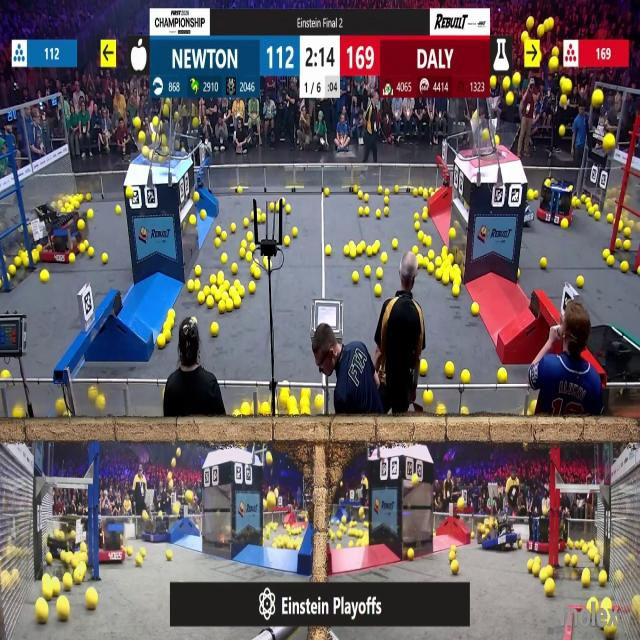ball_airborne: (593, 90, 604, 108), (561, 77, 571, 93), (604, 134, 614, 150), (268, 492, 277, 507), (185, 490, 193, 504), (536, 54, 544, 68), (514, 72, 522, 85), (502, 76, 510, 89), (526, 16, 534, 29), (551, 58, 559, 71), (544, 19, 552, 32), (164, 104, 171, 118), (505, 94, 513, 106), (135, 119, 143, 131), (142, 146, 150, 158), (537, 26, 544, 38), (267, 452, 274, 464), (173, 502, 180, 514), (522, 32, 530, 42), (458, 497, 464, 510), (139, 132, 146, 143), (559, 126, 565, 138), (491, 75, 497, 87), (561, 96, 567, 106), (484, 130, 490, 140), (471, 111, 477, 121), (413, 476, 419, 486), (553, 47, 559, 56), (172, 458, 177, 468), (533, 39, 539, 47), (153, 116, 158, 125), (494, 137, 499, 146), (163, 135, 168, 144), (151, 133, 156, 142), (192, 117, 197, 126), (170, 481, 174, 490), (168, 471, 172, 478)
ball_ground: (36, 600, 48, 624), (59, 599, 70, 621), (88, 590, 99, 610), (543, 580, 553, 598), (604, 625, 615, 640), (57, 398, 66, 414), (42, 586, 52, 600), (583, 570, 591, 587), (598, 570, 606, 586), (64, 578, 73, 592), (498, 367, 506, 382), (446, 361, 454, 376), (420, 359, 428, 374), (262, 404, 272, 416), (424, 391, 433, 404), (13, 408, 22, 421), (97, 396, 106, 409), (74, 570, 83, 583), (211, 322, 219, 336), (451, 561, 459, 575), (54, 582, 62, 596), (40, 271, 49, 283), (461, 371, 470, 383), (242, 405, 251, 417), (315, 395, 323, 408), (159, 337, 167, 349), (356, 241, 364, 253), (127, 185, 134, 198), (438, 407, 447, 417), (452, 285, 460, 296), (576, 276, 583, 288), (375, 284, 382, 296), (218, 302, 225, 314), (235, 296, 242, 308), (198, 292, 205, 304), (564, 554, 571, 566), (532, 564, 539, 576), (471, 304, 477, 317), (408, 550, 415, 561), (249, 282, 256, 293), (622, 263, 629, 274), (624, 240, 631, 251), (606, 255, 613, 266), (193, 279, 200, 290), (225, 301, 232, 312), (253, 269, 260, 280), (539, 257, 546, 268), (217, 273, 224, 284), (207, 296, 214, 307), (570, 555, 577, 566), (363, 267, 370, 278), (545, 566, 552, 577), (602, 598, 609, 609), (187, 280, 193, 292), (194, 266, 200, 278), (302, 388, 310, 397), (460, 409, 468, 418), (377, 270, 384, 280), (2, 368, 9, 378), (210, 275, 217, 285), (449, 552, 456, 562), (427, 264, 434, 274), (88, 210, 95, 220), (240, 248, 247, 258), (434, 257, 441, 267), (69, 252, 76, 262), (8, 266, 15, 276), (352, 273, 358, 284), (45, 554, 51, 565), (588, 601, 594, 612), (14, 256, 20, 267), (42, 573, 50, 581), (444, 276, 451, 285), (328, 242, 333, 254), (435, 270, 441, 280), (102, 252, 108, 262), (382, 252, 388, 262), (221, 253, 227, 263), (137, 556, 143, 566), (292, 226, 297, 238), (246, 251, 252, 261), (201, 210, 207, 220), (528, 189, 534, 199), (78, 219, 84, 229), (189, 215, 195, 225), (425, 237, 431, 247), (534, 192, 540, 202), (421, 212, 428, 220), (220, 233, 227, 241), (284, 237, 290, 246), (603, 249, 609, 258), (562, 219, 568, 228), (169, 310, 175, 319), (89, 248, 95, 257), (244, 218, 250, 227), (617, 240, 623, 249), (247, 233, 253, 242), (428, 250, 434, 259), (80, 244, 86, 253), (262, 215, 268, 224), (415, 221, 421, 230), (625, 229, 631, 238), (128, 546, 134, 555), (350, 249, 356, 258), (223, 281, 229, 290), (168, 319, 174, 328), (231, 287, 237, 296), (233, 265, 238, 275), (215, 238, 220, 248), (418, 254, 423, 264), (345, 246, 350, 256), (265, 256, 270, 266), (366, 246, 371, 256), (376, 241, 381, 251), (24, 258, 29, 268), (215, 290, 220, 300), (167, 552, 173, 560), (235, 280, 241, 288), (413, 246, 419, 254), (607, 214, 613, 222), (418, 233, 424, 241), (211, 286, 217, 294), (588, 208, 594, 216), (248, 244, 254, 252), (270, 203, 276, 211), (286, 206, 292, 214), (528, 560, 532, 572), (204, 286, 210, 294), (413, 188, 419, 196), (80, 542, 86, 550), (589, 552, 595, 560), (392, 240, 397, 249), (451, 230, 456, 239), (232, 223, 237, 232), (593, 212, 598, 221), (423, 189, 428, 198), (193, 191, 198, 200), (276, 203, 281, 212), (378, 186, 384, 193), (305, 409, 311, 416), (518, 540, 524, 547), (240, 287, 244, 297), (377, 210, 382, 218), (384, 208, 389, 216), (384, 198, 389, 206), (338, 532, 343, 540), (415, 212, 420, 220), (449, 254, 454, 262), (250, 212, 255, 220), (384, 187, 389, 195), (116, 206, 120, 215), (451, 544, 457, 550), (348, 541, 354, 547), (636, 267, 640, 276), (620, 221, 624, 230), (237, 187, 243, 193), (324, 188, 329, 195), (359, 208, 364, 215), (242, 241, 247, 248), (394, 185, 399, 192), (140, 547, 145, 554), (88, 193, 93, 200), (216, 226, 220, 234), (444, 247, 448, 255), (256, 214, 260, 222), (0, 281, 4, 289), (363, 522, 368, 528), (472, 534, 477, 540), (364, 193, 368, 200), (343, 515, 347, 522), (338, 543, 342, 549), (256, 208, 260, 214)
goal: (464, 123, 521, 160)
robot_blue: (476, 516, 518, 551), (51, 515, 81, 557), (140, 512, 171, 542)
robot_red: (33, 192, 86, 261), (538, 176, 575, 224), (100, 522, 129, 566), (528, 512, 554, 553)
